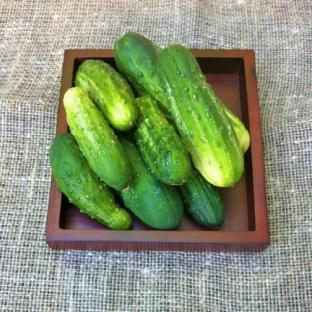Cucumber: (158, 45, 243, 187), (50, 133, 131, 229), (64, 88, 132, 189), (119, 138, 183, 229), (135, 97, 191, 184), (115, 32, 169, 118), (75, 60, 137, 130), (178, 168, 224, 228)
